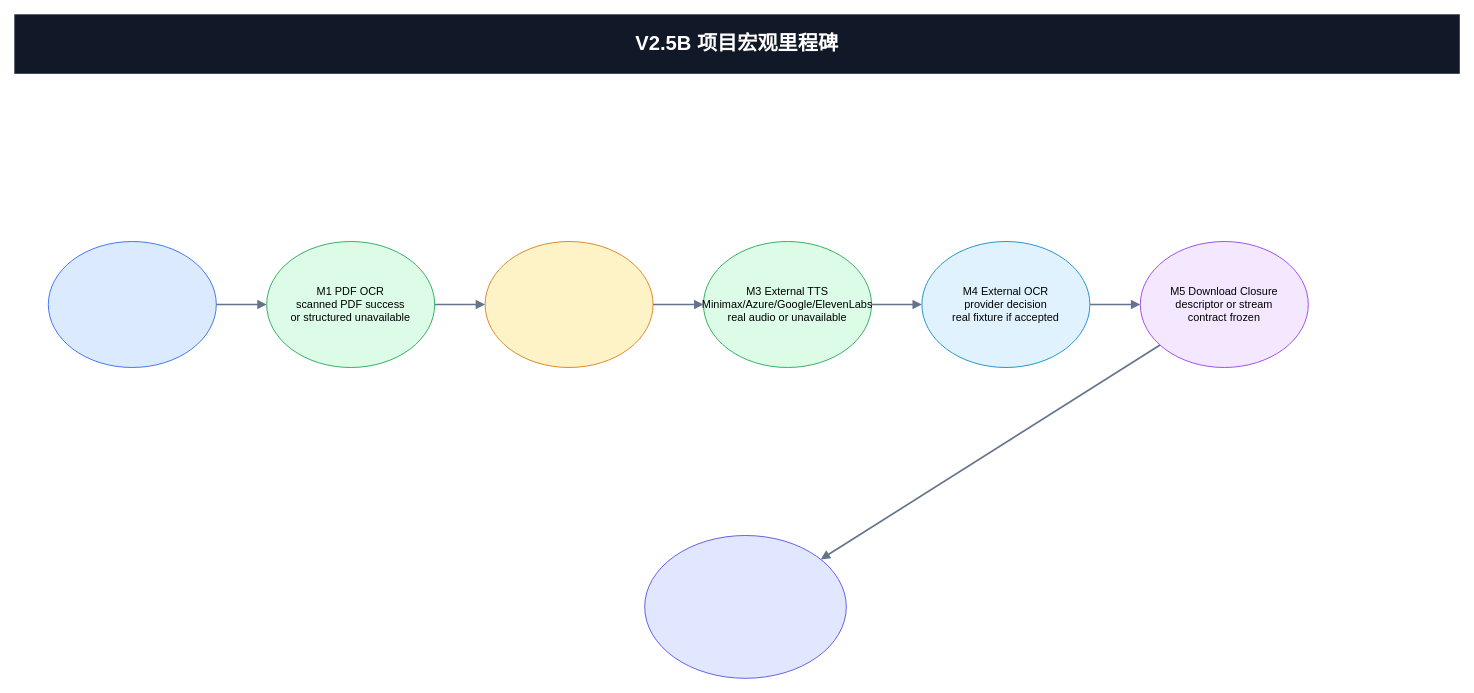
Image size: 1474x693. Some labels were removed from this diagram. Here are the shapes that lost their labels. From the top down, the box of each, then its label:
(47, 241, 216, 368): M0 V2.5A Accepted local provider closure Phase 36 report
(484, 241, 653, 368): M2 Adapter Contract provider health != execution failure matrix
(644, 535, 846, 678): M6 Full PRD Closure coverage matrix no fatal/major
